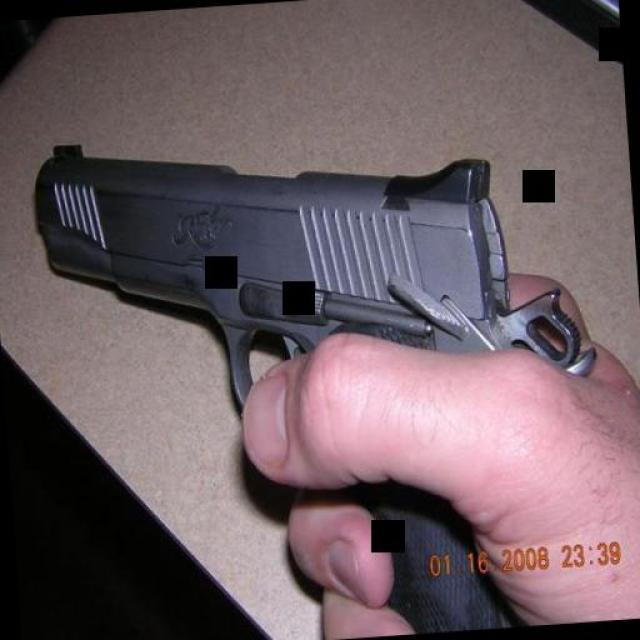gun: (22, 95, 628, 640)
